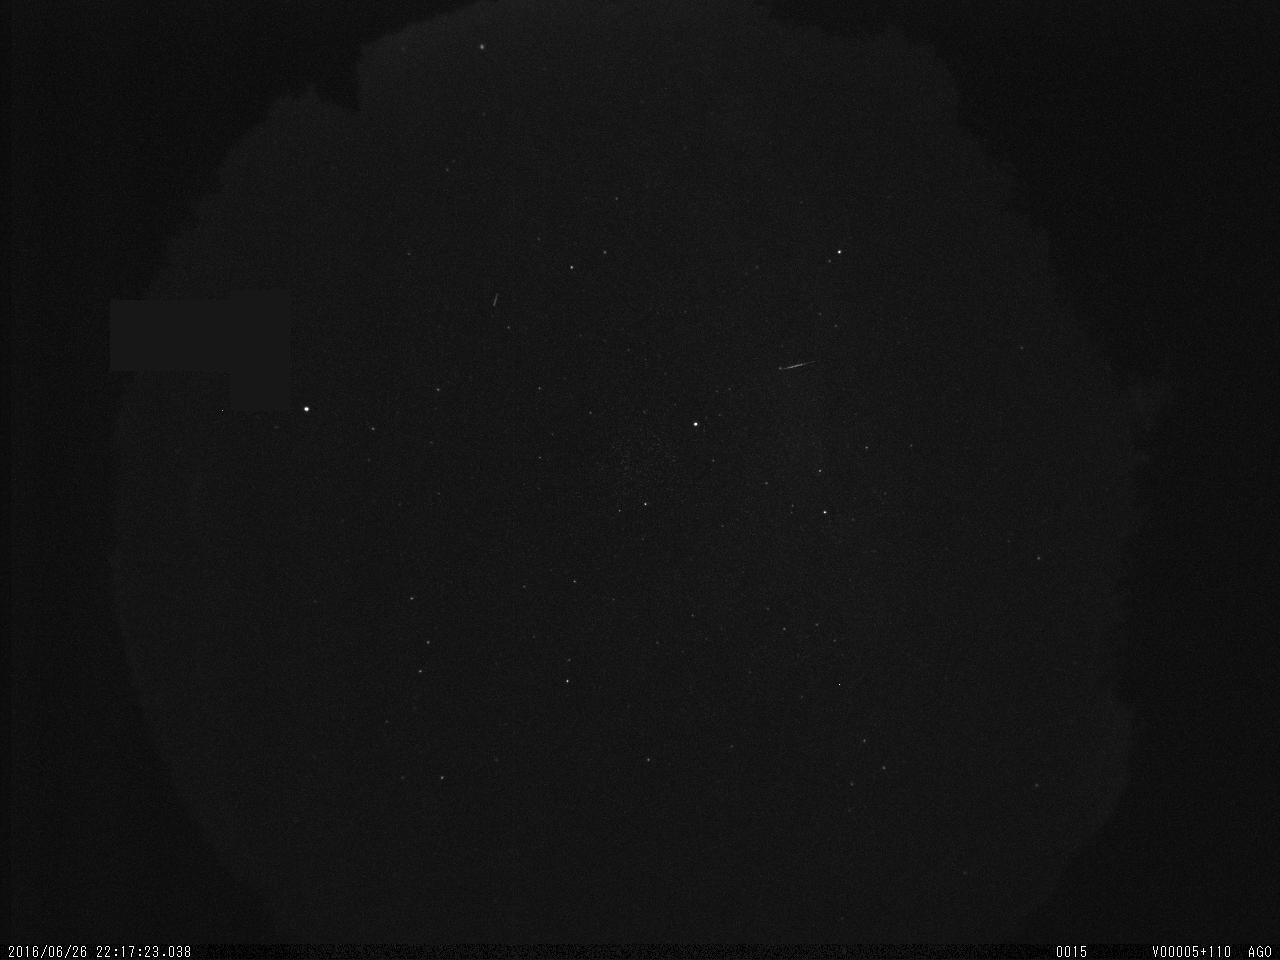meteor: (782, 354, 826, 378)
